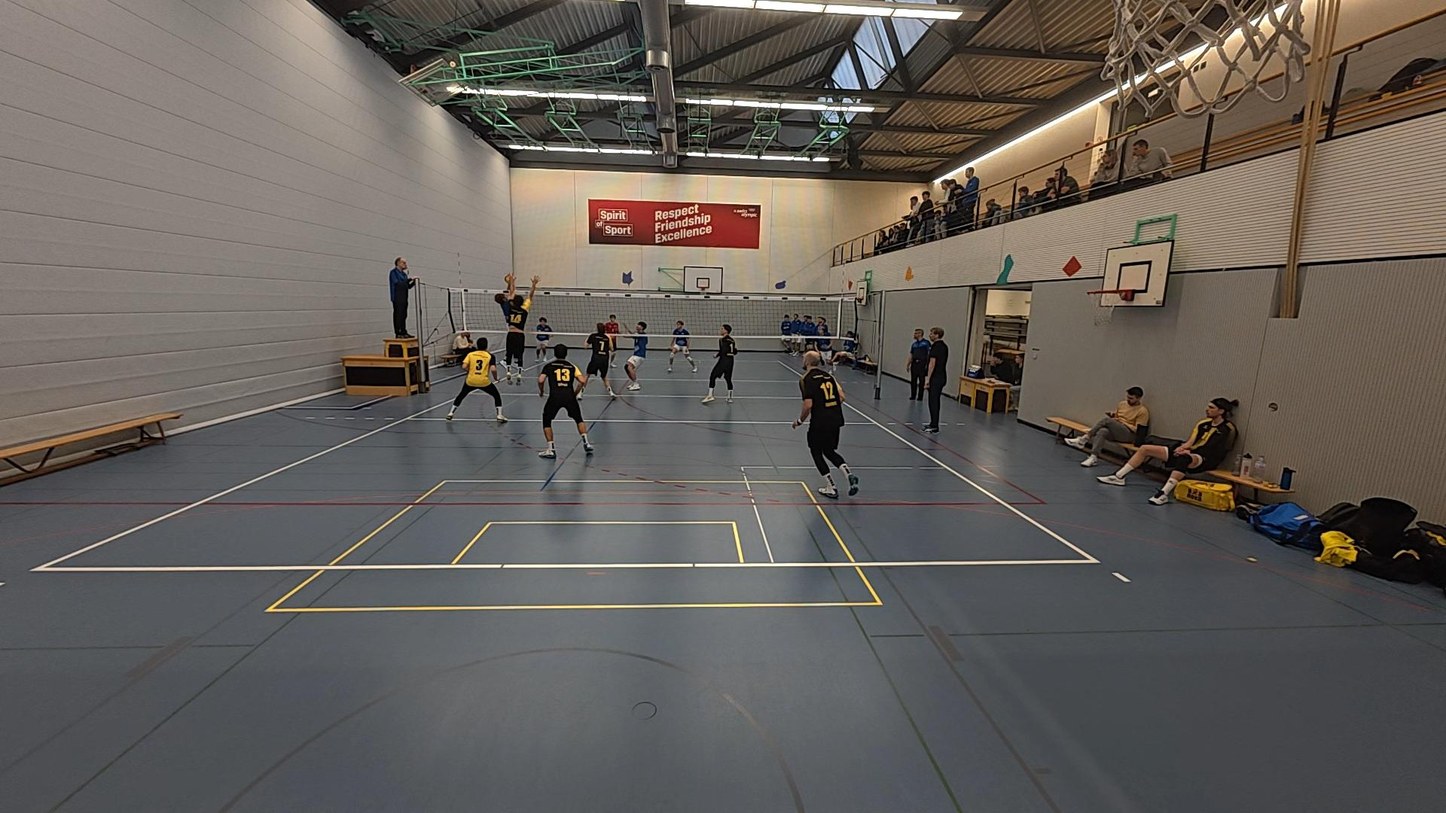Block: (498, 274, 538, 383)
Player: (792, 350, 859, 498), (537, 346, 594, 458), (444, 337, 508, 424), (583, 317, 619, 399), (703, 324, 737, 404), (618, 317, 644, 394), (664, 318, 691, 373), (529, 312, 554, 371)
Set: (493, 268, 522, 382)
ball: (501, 269, 518, 283)
